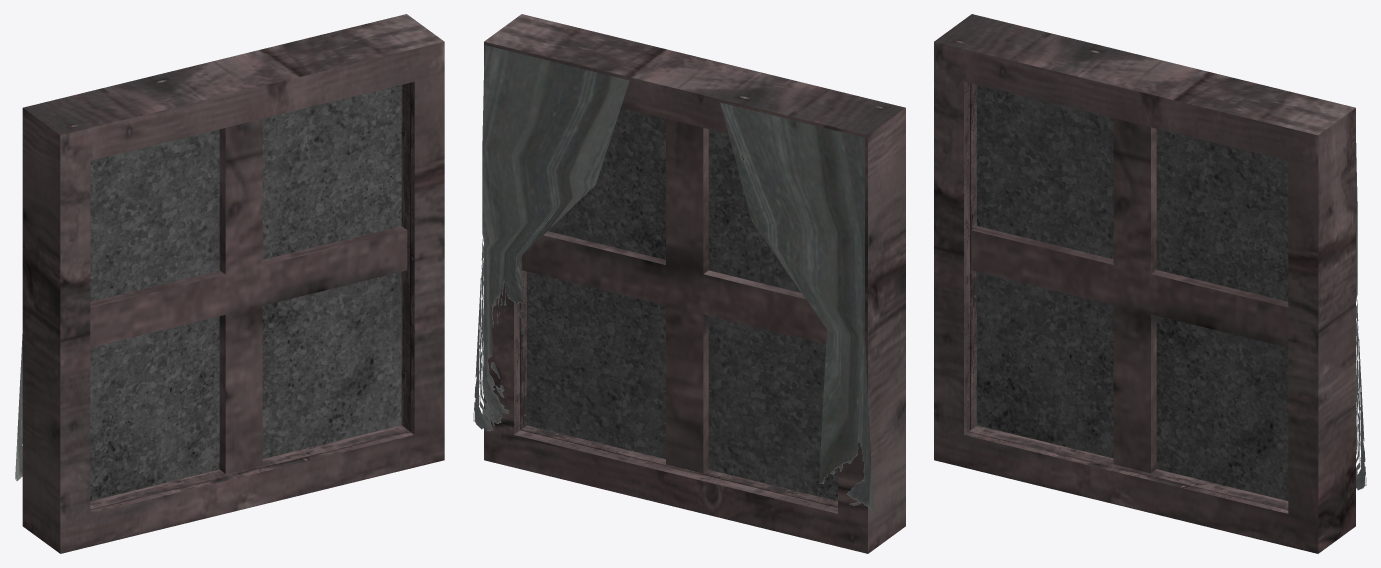
File: Prefab Window.fbx
The picture shows the model from 3 angles, left to right: view 1: azimuth 30°, elevation 25°; view 2: azimuth 150°, elevation 25°; view 3: azimuth 330°, elevation 25°; orthographic projection.
Parts seen in each view (by area): view 1: Prefab_Window_Frame, Prefab_Window_Glass, Prefab_Window_Beam, Prefab_Window_Curtain; view 2: Prefab_Window_Frame, Prefab_Window_Glass, Prefab_Window_Curtain, Prefab_Window_Beam; view 3: Prefab_Window_Frame, Prefab_Window_Glass, Prefab_Window_Beam, Prefab_Window_Curtain.
Part boxes in pixels (bbox=[...]): Prefab_Window_Frame: bbox=[22, 14, 444, 553]; Prefab_Window_Glass: bbox=[90, 85, 401, 500]; Prefab_Window_Beam: bbox=[90, 119, 407, 473]; Prefab_Window_Curtain: bbox=[15, 334, 22, 480]; Prefab_Window_Frame: bbox=[484, 14, 905, 553]; Prefab_Window_Glass: bbox=[527, 108, 837, 500]; Prefab_Window_Curtain: bbox=[473, 45, 873, 510]; Prefab_Window_Beam: bbox=[521, 119, 826, 473]; Prefab_Window_Frame: bbox=[934, 14, 1355, 553]; Prefab_Window_Glass: bbox=[977, 85, 1288, 500]; Prefab_Window_Beam: bbox=[971, 118, 1288, 473]; Prefab_Window_Curtain: bbox=[1356, 143, 1366, 490].
Size of the model in its own units: 1.96 by 1.97 by 0.3494.
